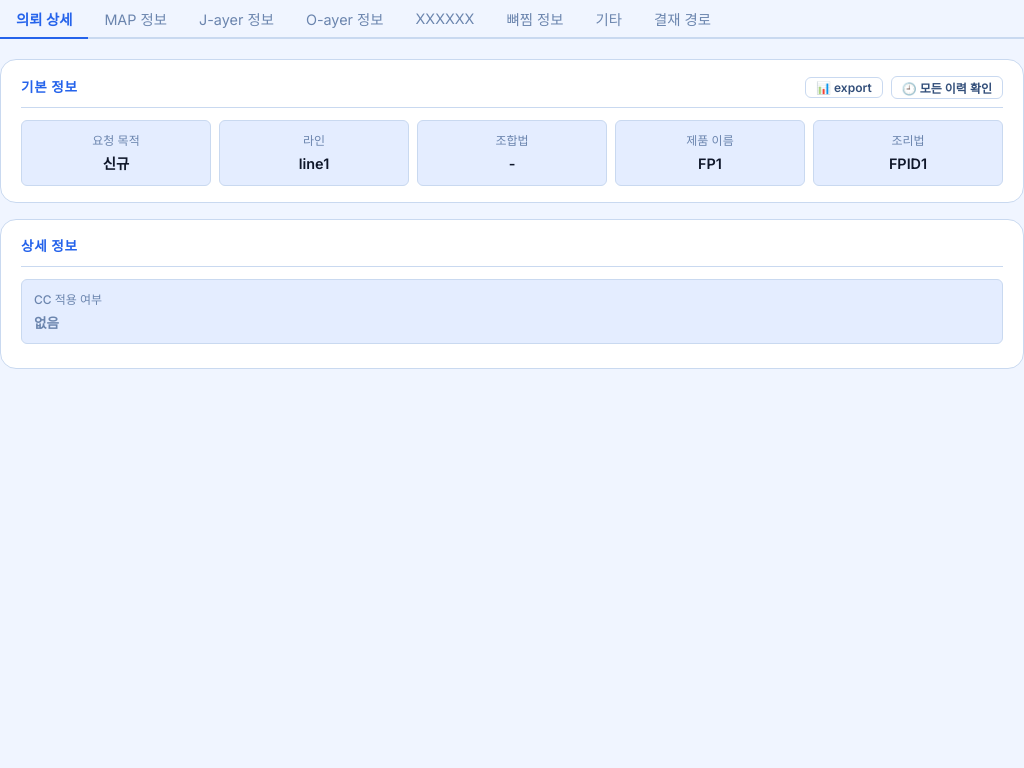
결재 경로 탭 — 회차별 실제 상신자 › round_submitters 가 없는 예전 문서는 모든 회차가 의뢰자다
Click the button "결재 경로".
click(682, 20)  # box [638,0,727,39]
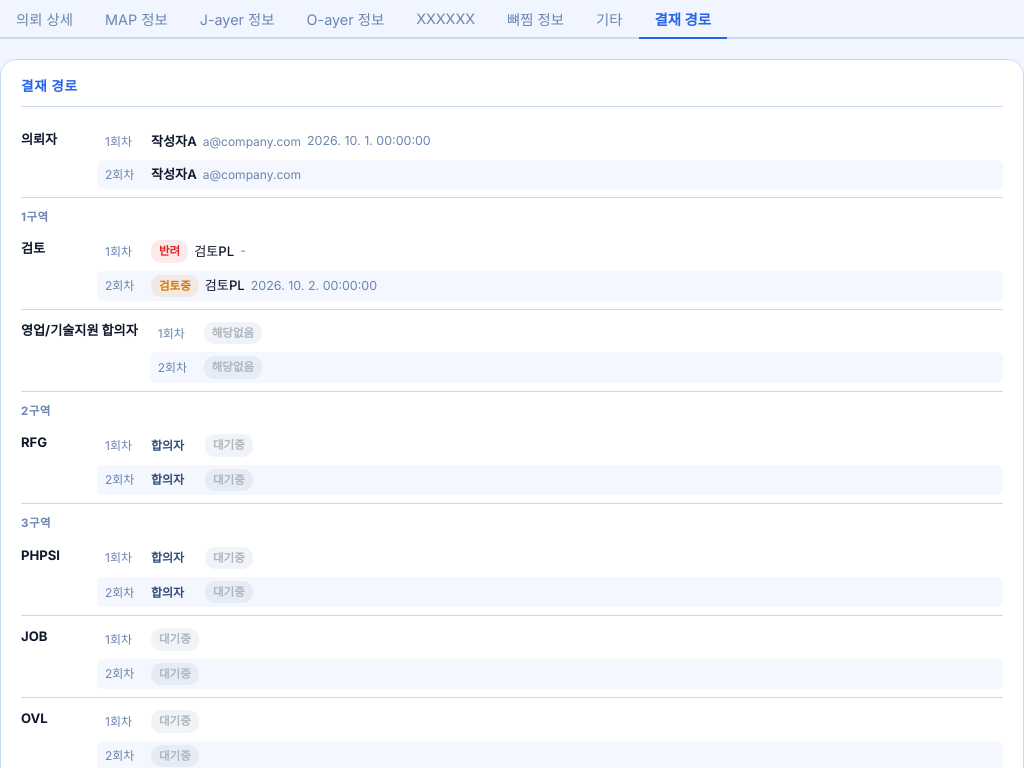
Check: the element showing "1회차 작성자A a@company.com 2026. 10. 1. 00:00:00" is shown, box [105,133,431,149]
Check: the element showing "2회차 작성자A a@company.com" is shown, box [97,160,1003,189]
